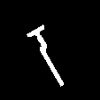half_double_crochet: (27, 25, 63, 85)
